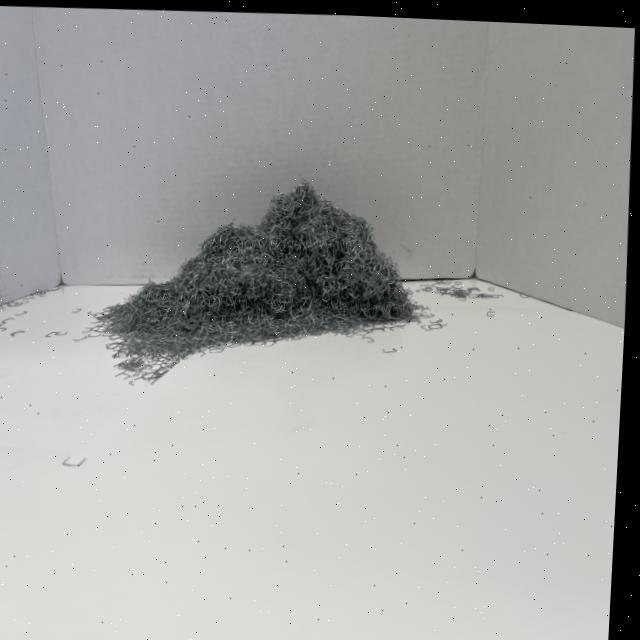staples: (80, 164, 425, 398)
